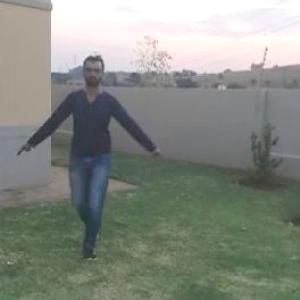land: (27, 62, 167, 241)
